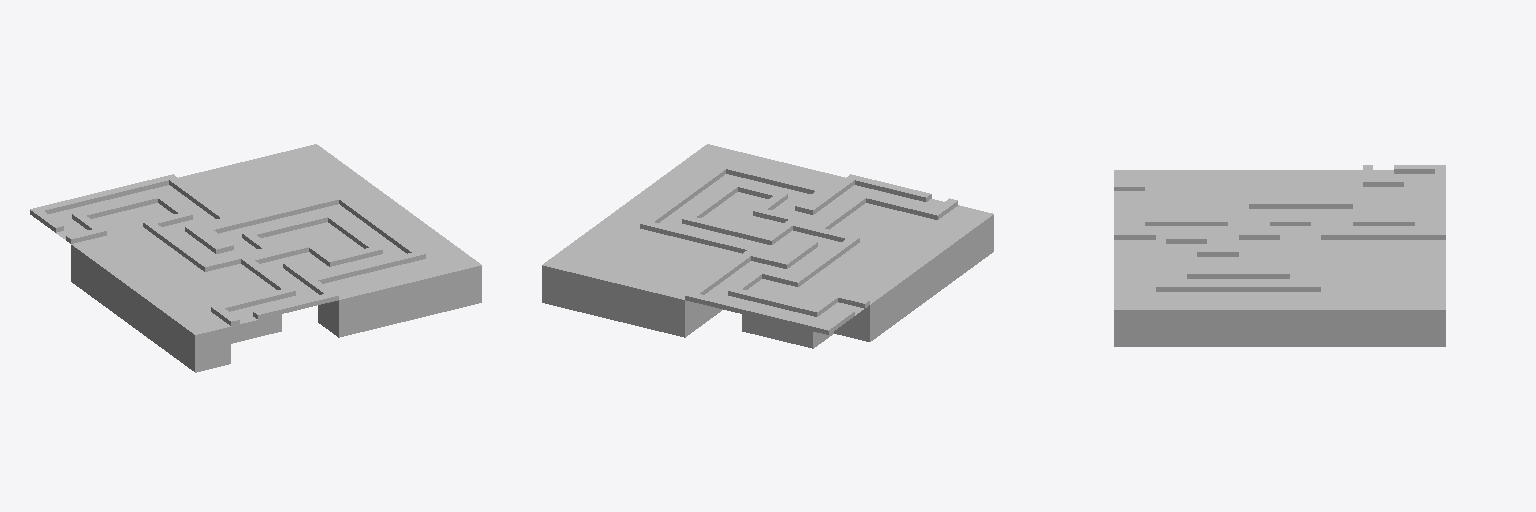
File: BLU.obj
3 views of the same model, side by side, from view 1: azimuth 30°, elevation 25°; view 2: azimuth 150°, elevation 25°; view 3: azimuth 270°, elevation 25° (orthographic).
Parts seen in each view (by area): view 1: QMazePieceCorner, QMazePieceLine, QMazePieceEmpty 43 (14), QMazePieceEmpty 43 (78), QMazePieceEmpty 43 (112), QMazePieceEmpty 43 (77), QMazePieceEmpty 43 (79), QMazePieceEmpty 43 (9), QMazePieceEmpty 43 (13), QMazePieceEmpty 43 (11), QMazePieceEmpty 43 (10), QMazePieceEmpty 43 (12) (+28 smaller); view 2: QMazePieceCorner, QMazePieceLine, QMazePieceEmpty 43 (94), QMazePieceEmpty 43 (102), QMazePieceEmpty 43 (93), QMazePieceEmpty 43 (13), QMazePieceEmpty 43 (101), QMazePieceEmpty 43 (9), QMazePieceEmpty 43 (12), QMazePieceEmpty 43 (10), QMazePieceEmpty 43 (11), QMazePieceEmpty 43 (14) (+28 smaller); view 3: QMazePieceCorner, QMazePieceLine, QMazePieceEmpty 43 (104), QMazePieceEmpty 43 (102), QMazePieceEmpty 43 (105), QMazePieceEmpty 43 (112), QMazePieceEmpty 43 (113), QMazePieceEmpty 43 (103), QMazePieceEmpty 43 (107), QMazePieceEmpty 43 (106), QMazePieceCorner (1), QMazePieceCorner 3 (+28 smaller).
Boxes of the visible parts, x1,y1,x2,y2 form: QMazePieceCorner: [50, 174, 425, 325]; QMazePieceLine: [158, 189, 403, 317]; QMazePieceEmpty 43 (14): [175, 311, 230, 372]; QMazePieceEmpty 43 (78): [318, 276, 374, 337]; QMazePieceEmpty 43 (112): [427, 250, 481, 311]; QMazePieceEmpty 43 (77): [354, 268, 410, 328]; QMazePieceEmpty 43 (79): [390, 259, 445, 319]; QMazePieceEmpty 43 (9): [154, 296, 209, 357]; QMazePieceEmpty 43 (13): [71, 236, 126, 296]; QMazePieceEmpty 43 (11): [112, 266, 167, 326]; QMazePieceEmpty 43 (10): [133, 281, 188, 341]; QMazePieceEmpty 43 (12): [92, 251, 147, 310]; QMazePieceCorner: [640, 163, 957, 319]; QMazePieceLine: [661, 172, 921, 289]; QMazePieceEmpty 43 (94): [649, 276, 705, 337]; QMazePieceEmpty 43 (102): [542, 250, 596, 311]; QMazePieceEmpty 43 (93): [613, 268, 669, 328]; QMazePieceEmpty 43 (13): [834, 281, 890, 341]; QMazePieceEmpty 43 (101): [578, 259, 633, 319]; QMazePieceEmpty 43 (9): [917, 221, 973, 280]; QMazePieceEmpty 43 (12): [856, 266, 911, 326]; QMazePieceEmpty 43 (10): [897, 236, 952, 296]; QMazePieceEmpty 43 (11): [876, 251, 931, 310]; QMazePieceEmpty 43 (14): [938, 205, 993, 265]; QMazePieceCorner: [1114, 165, 1445, 291]; QMazePieceLine: [1114, 200, 1403, 291]; QMazePieceEmpty 43 (104): [1321, 292, 1362, 346]; QMazePieceEmpty 43 (102): [1404, 292, 1445, 346]; QMazePieceEmpty 43 (105): [1197, 292, 1238, 346]; QMazePieceEmpty 43 (112): [1114, 292, 1155, 346]; QMazePieceEmpty 43 (113): [1156, 292, 1196, 346]; QMazePieceEmpty 43 (103): [1363, 292, 1403, 346]; QMazePieceEmpty 43 (107): [1280, 292, 1320, 346]; QMazePieceEmpty 43 (106): [1239, 292, 1279, 346]; QMazePieceCorner (1): [1280, 217, 1320, 239]; QMazePieceCorner 3: [1321, 200, 1362, 221].
Bounding box in the file's own units: 40 × 5.62 × 40.